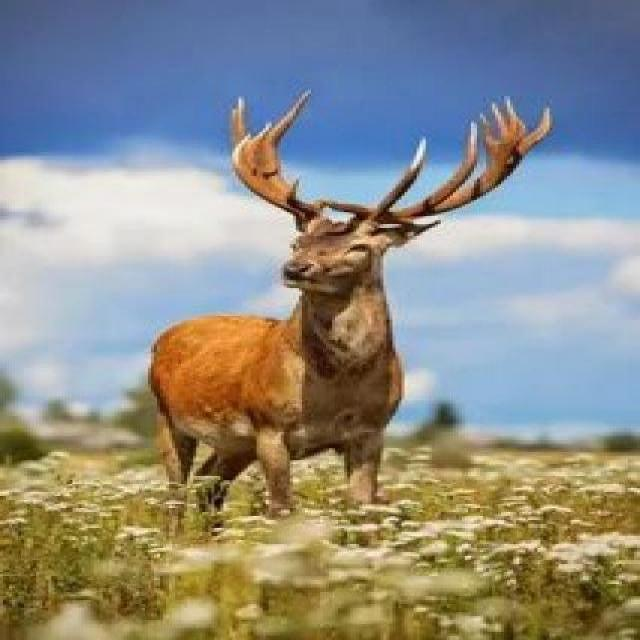deer: (91, 94, 600, 538)
